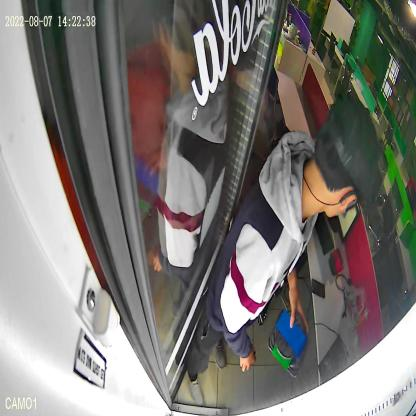blue: (274, 310, 307, 359)
green: (267, 320, 308, 378)
